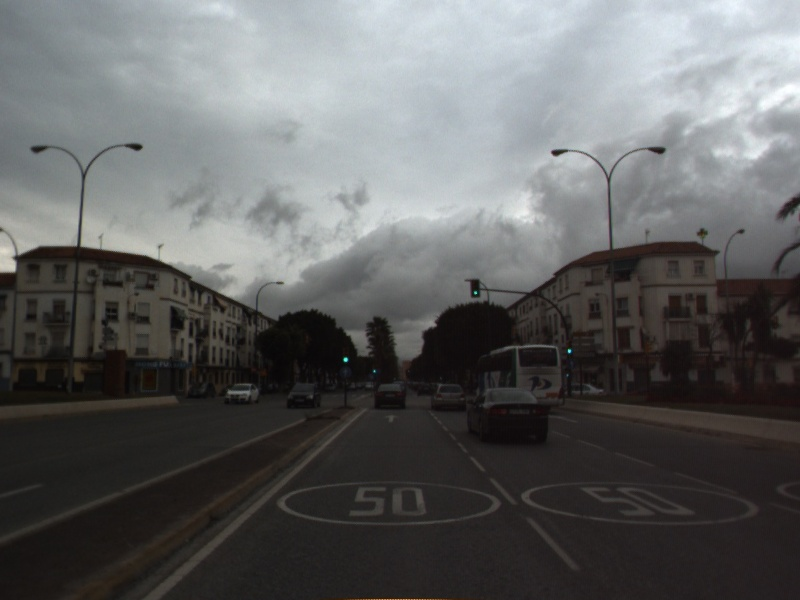STRAIGHT: (548, 412, 581, 425), (382, 413, 401, 424)
